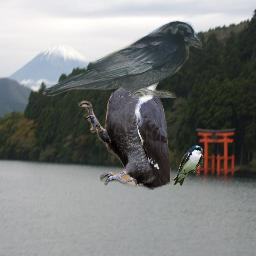Crow: (42, 20, 202, 98)
Swallow: (172, 145, 203, 186)
Woodpecker: (78, 40, 176, 190)
